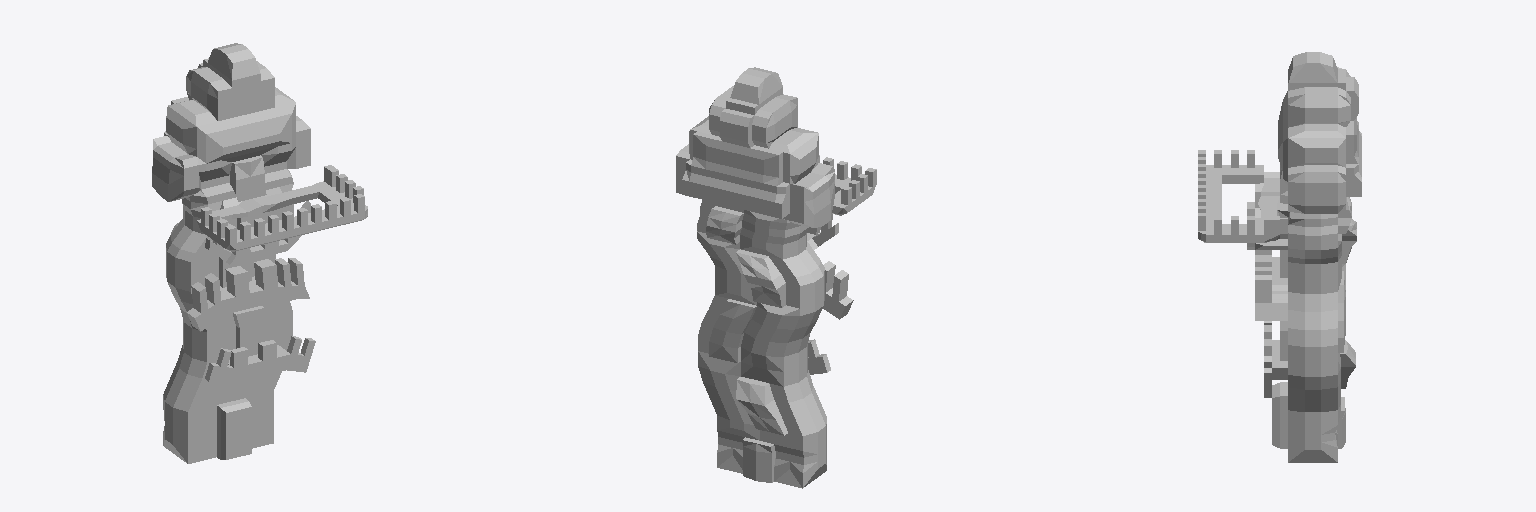
Rendered from drfrank-house.obj.
3 renders of one model, left to right at view 1: azimuth 30°, elevation 25°; view 2: azimuth 150°, elevation 25°; view 3: azimuth 270°, elevation 25°, orthographic.
Parts seen in each view (by area): view 1: Cube.017; view 2: Cube.017; view 3: Cube.017.
Part boxes in pixels (x1,y1,x2,y2): Cube.017: (152,43,367,463); Cube.017: (676,67,876,488); Cube.017: (1198,52,1361,462).
Size of the model in its own units: 21.05 by 52.46 by 19.96.